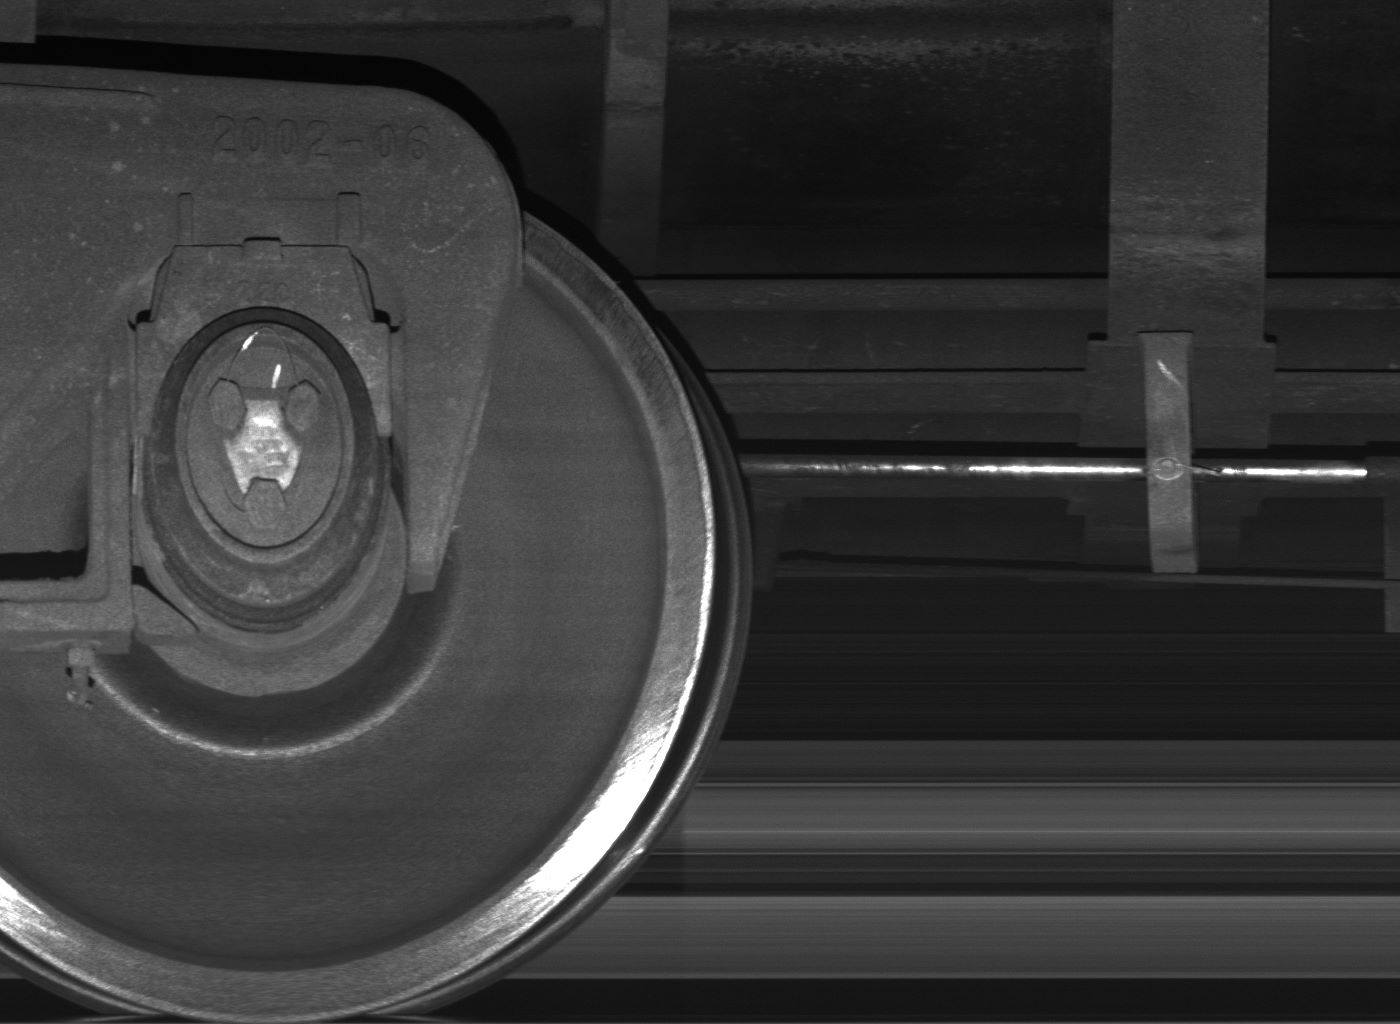normal: (1138, 330, 1198, 575)
